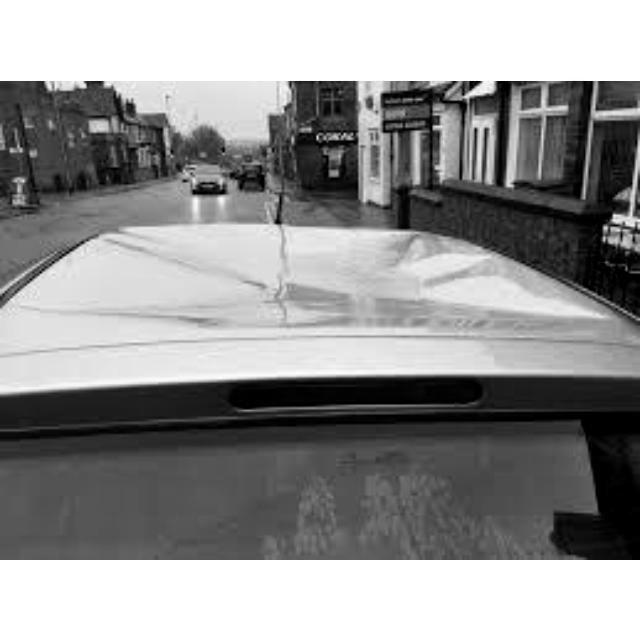roof-dent: (3, 209, 638, 438)
